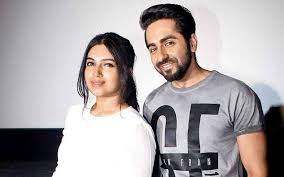Bad: (51, 4, 267, 177)
